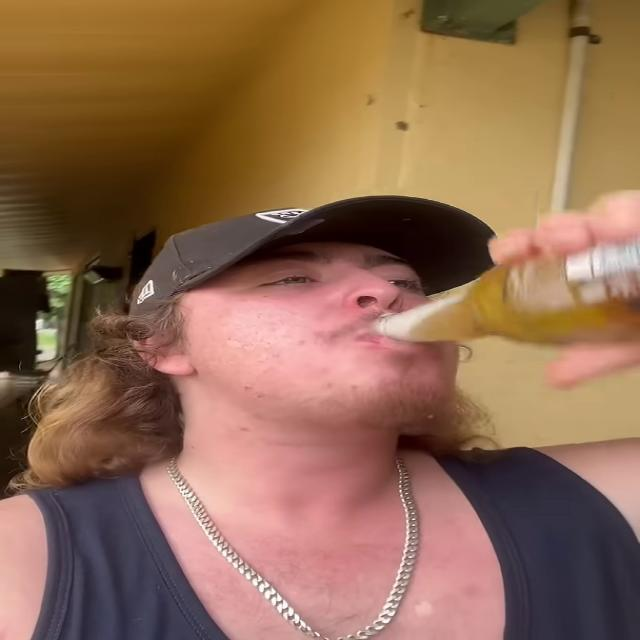Bottle: (383, 221, 639, 345)
Hand: (473, 186, 640, 385)
Mouth: (332, 316, 447, 364)
